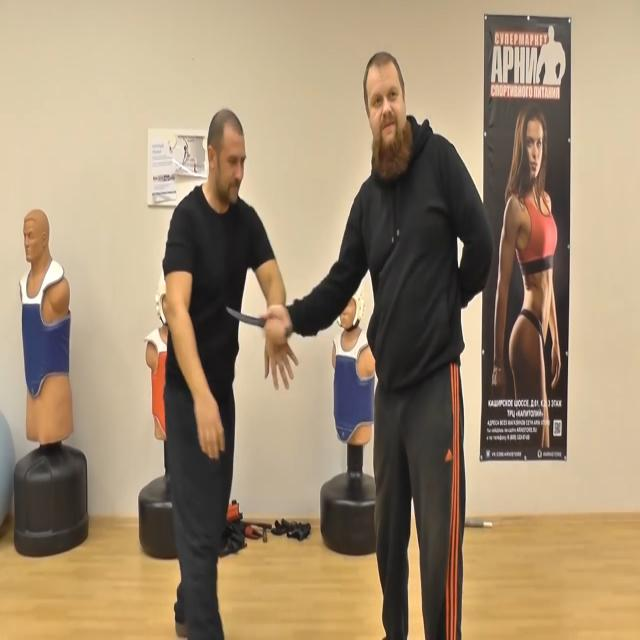knife: (223, 303, 267, 331)
